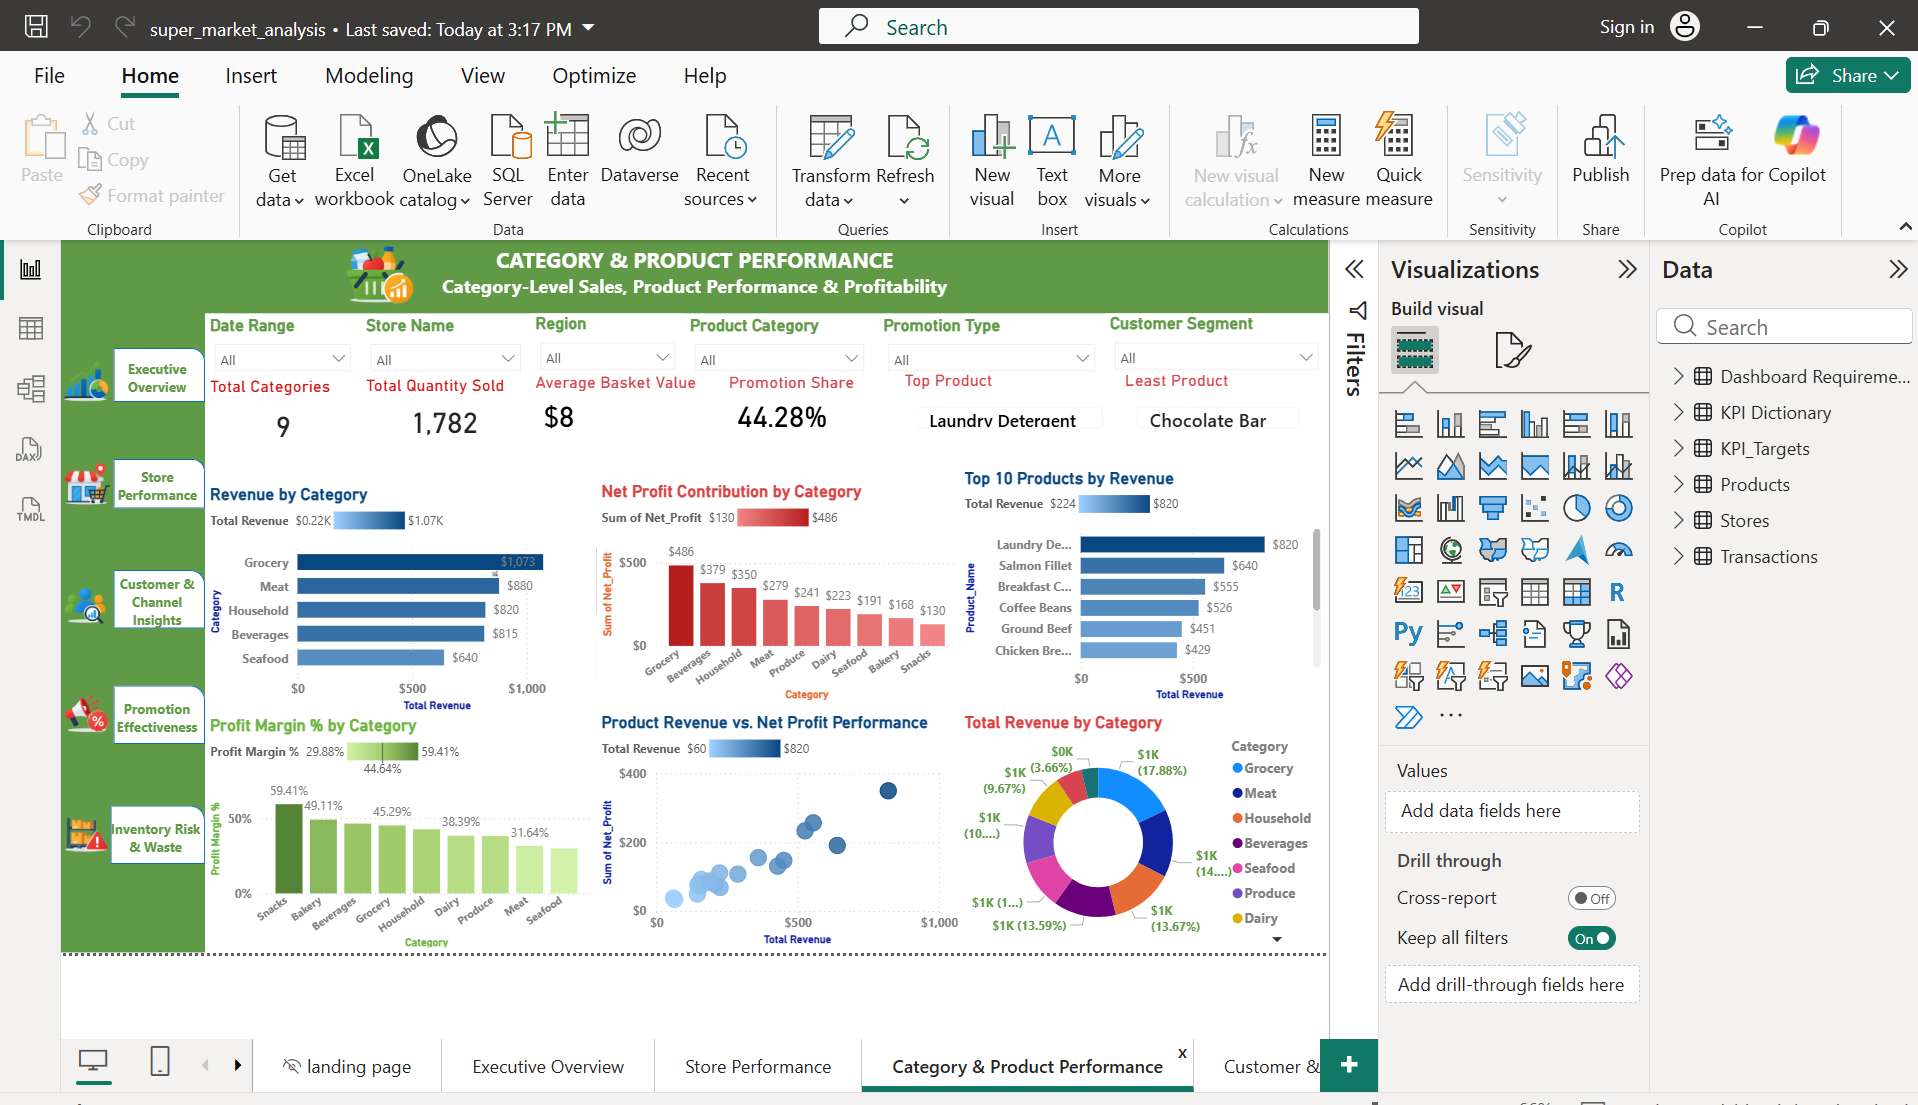

This screenshot's page, from the dashboard's own definition file:
{"tool":"powerbi","page":{"name":"Category & Product Performance","canvas":[1280,720],"ordinal":3},"visuals":[{"type":"shape","box":[0,71.2,145.4,648.1],"z":0},{"type":"textbox","box":[0,0,1279.5,74.2],"z":1000},{"type":"kpi","title":"Total Categories ","fields":{"Indicator":["Dashboard Requirements.Total Categories"],"TrendLine":["Transactions.Date.Variation.Date Hierarchy.Year"]},"box":[145.4,137.8,157.5,83.3],"z":2000},{"type":"kpi","title":"Total Quantity Sold","fields":{"Indicator":["Dashboard Requirements.Total Quantity Sold"],"TrendLine":["Transactions.Date.Variation.Date Hierarchy.Year"]},"box":[302.8,136.3,168.1,77.2],"z":3000},{"type":"kpi","title":"Average Basket Value","fields":{"Indicator":["Dashboard Requirements.Average Basket Value"],"TrendLine":["Transactions.Date.Variation.Date Hierarchy.Year"]},"box":[473.9,133.3,195.3,77.2],"z":4000},{"type":"kpi","title":"Promotion Share","fields":{"Indicator":["Dashboard Requirements.Promotion Share %"],"TrendLine":["Transactions.Date.Variation.Date Hierarchy.Year"]},"box":[669.3,133.3,177.2,75.7],"z":5000},{"type":"cardVisual","title":"Top Product","fields":{"Data":["Dashboard Requirements.Top Product"]},"box":[846.4,131.7,222.6,75.7],"z":6000},{"type":"clusteredBarChart","title":"Revenue by Category","fields":{"Category":["Products.Category"],"Y":["Dashboard Requirements.Total Revenue"]},"box":[145.4,246.8,407.3,233.2],"z":7000},{"type":"clusteredBarChart","title":"Top 10 Products by Revenue","fields":{"Category":["Products.Product_Name"],"Y":["Dashboard Requirements.Total Revenue"]},"box":[907,230.2,369.5,239.2],"z":8000},{"type":"clusteredColumnChart","title":"Net Profit Contribution by Category","fields":{"Category":["Products.Category"],"Y":["Sum(Transactions.Net_Profit)"]},"box":[540.6,243.8,369.5,225.6],"z":9000},{"type":"clusteredColumnChart","fields":{"Category":["Products.Category"],"Y":["Dashboard Requirements.Profit Margin %"]},"box":[145.4,480,395.2,239.2],"z":10000},{"type":"scatterChart","title":"Product Revenue vs. Net Profit Performance","fields":{"Category":["Products.Product_Name"],"X":["Dashboard Requirements.Total Revenue"],"Y":["Sum(Transactions.Net_Profit)"]},"box":[540.6,477,369.5,239.2],"z":11000},{"type":"donutChart","fields":{"Category":["Products.Category"],"Y":["Dashboard Requirements.Total Revenue"]},"box":[907,477,369.5,242.3],"z":12000},{"type":"cardVisual","title":"Least Product","fields":{"Data":["Dashboard Requirements.Lowest Product"]},"box":[1069,131.7,198.4,75.7],"z":13000},{"type":"image","box":[0,109,53,71.2],"z":14000},{"type":"shape","box":[53,109,92.4,54.5],"z":15000},{"type":"image","box":[434.6,278.6,7.6,116.6],"z":16000},{"type":"image","box":[0,207.4,53,80.3],"z":17000},{"type":"shape","box":[53,221.1,92.4,50],"z":18000},{"type":"image","box":[0,333.1,53,71.2],"z":19000},{"type":"image","box":[0,439.1,53,81.8],"z":20000},{"type":"image","box":[0,551.2,53,99.9],"z":21000},{"type":"shape","box":[53,333.1,92.4,59.1],"z":22000},{"type":"shape","box":[53,449.7,92.4,59.1],"z":23000},{"type":"shape","box":[50,570.9,95.4,59.1],"z":24000},{"type":"image","box":[260.4,0,131.7,71.2],"z":25000},{"type":"slicer","title":"Date Range","fields":{"Values":["Transactions.Date.Variation.Date Hierarchy.Year","Transactions.Date.Variation.Date Hierarchy.Quarter","Transactions.Date.Variation.Date Hierarchy.Month","Transactions.Date.Variation.Date Hierarchy.Day"]},"box":[145.4,75.7,157.5,57.5],"z":28000},{"type":"slicer","title":"Store Name","fields":{"Values":["Stores.Store_Name"]},"box":[302.8,75.7,171.1,57.5],"z":29000},{"type":"slicer","title":"Region","fields":{"Values":["Stores.Region"]},"box":[473.9,74.2,156,62.1],"z":30000},{"type":"slicer","title":"Product Category","fields":{"Values":["Products.Category"]},"box":[629.9,75.7,190.8,62.1],"z":31000},{"type":"slicer","title":"Promotion Type","fields":{"Values":["Transactions.Promotion_Type"]},"box":[825.2,75.7,228.6,57.5],"z":32000},{"type":"slicer","title":"Customer Segment","fields":{"Values":["Transactions.Customer_Segment"]},"box":[1053.9,74.2,225.6,62.1],"z":33000}]}

Visuals, with their boxes on the page's 1280x720 design canvas (x1, y1, x2, y2). These are canvas units, not pixel positions in the 1918x1105 screenshot, which may show the page scaled, cropped or inside an application window:
shape: {"left": 0, "top": 71, "right": 145, "bottom": 719}
textbox: {"left": 0, "top": 0, "right": 1280, "bottom": 74}
"Total Categories " kpi: {"left": 145, "top": 138, "right": 303, "bottom": 221}
"Total Quantity Sold" kpi: {"left": 303, "top": 136, "right": 471, "bottom": 214}
"Average Basket Value" kpi: {"left": 474, "top": 133, "right": 669, "bottom": 210}
"Promotion Share" kpi: {"left": 669, "top": 133, "right": 846, "bottom": 209}
"Top Product" cardVisual: {"left": 846, "top": 132, "right": 1069, "bottom": 207}
"Revenue by Category" clusteredBarChart: {"left": 145, "top": 247, "right": 553, "bottom": 480}
"Top 10 Products by Revenue" clusteredBarChart: {"left": 907, "top": 230, "right": 1276, "bottom": 469}
"Net Profit Contribution by Category" clusteredColumnChart: {"left": 541, "top": 244, "right": 910, "bottom": 469}
clusteredColumnChart - Products.Category x Dashboard Requirements.Profit Margin %: {"left": 145, "top": 480, "right": 541, "bottom": 719}
"Product Revenue vs. Net Profit Performance" scatterChart: {"left": 541, "top": 477, "right": 910, "bottom": 716}
donutChart - Products.Category x Dashboard Requirements.Total Revenue: {"left": 907, "top": 477, "right": 1276, "bottom": 719}
"Least Product" cardVisual: {"left": 1069, "top": 132, "right": 1267, "bottom": 207}
image: {"left": 0, "top": 109, "right": 53, "bottom": 180}
shape: {"left": 53, "top": 109, "right": 145, "bottom": 164}
image: {"left": 435, "top": 279, "right": 442, "bottom": 395}
image: {"left": 0, "top": 207, "right": 53, "bottom": 288}
shape: {"left": 53, "top": 221, "right": 145, "bottom": 271}
image: {"left": 0, "top": 333, "right": 53, "bottom": 404}
image: {"left": 0, "top": 439, "right": 53, "bottom": 521}
image: {"left": 0, "top": 551, "right": 53, "bottom": 651}
shape: {"left": 53, "top": 333, "right": 145, "bottom": 392}
shape: {"left": 53, "top": 450, "right": 145, "bottom": 509}
shape: {"left": 50, "top": 571, "right": 145, "bottom": 630}
image: {"left": 260, "top": 0, "right": 392, "bottom": 71}
"Date Range" slicer: {"left": 145, "top": 76, "right": 303, "bottom": 133}
"Store Name" slicer: {"left": 303, "top": 76, "right": 474, "bottom": 133}
"Region" slicer: {"left": 474, "top": 74, "right": 630, "bottom": 136}
"Product Category" slicer: {"left": 630, "top": 76, "right": 821, "bottom": 138}
"Promotion Type" slicer: {"left": 825, "top": 76, "right": 1054, "bottom": 133}
"Customer Segment" slicer: {"left": 1054, "top": 74, "right": 1280, "bottom": 136}
